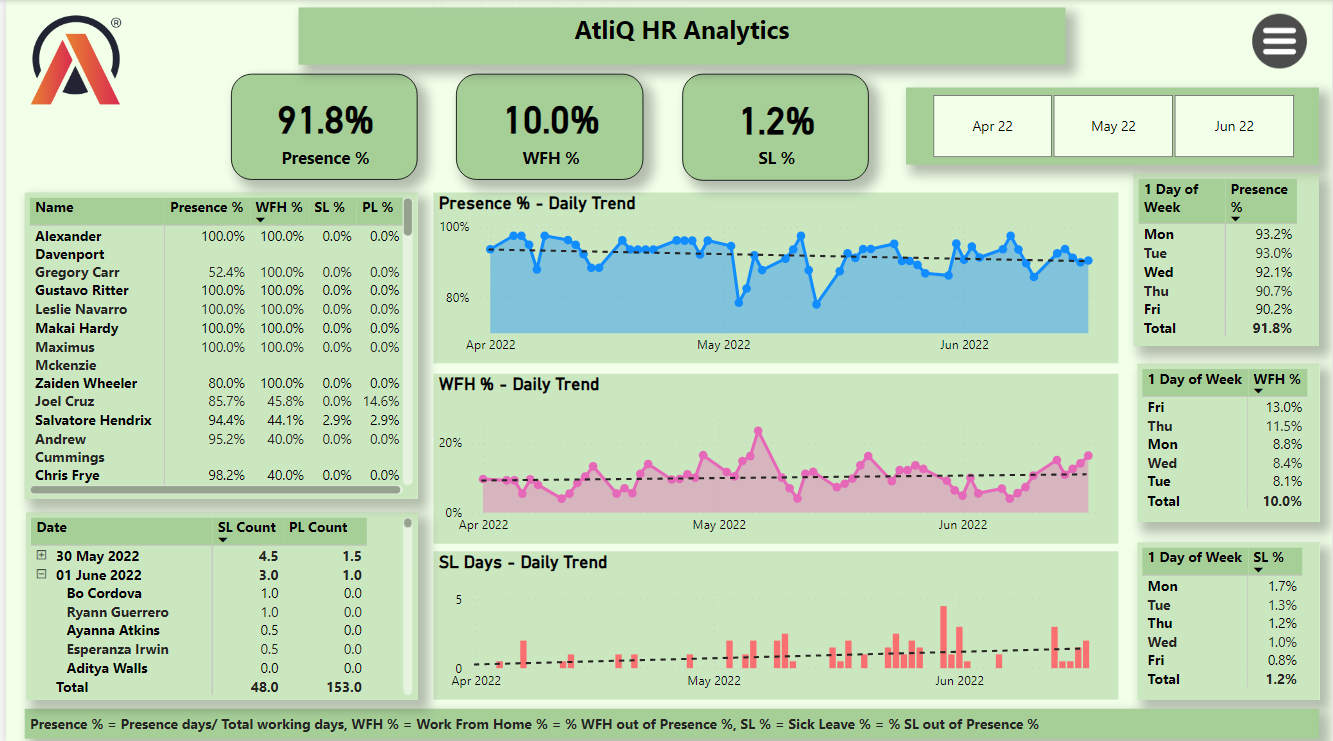

This screenshot's page, from the dashboard's own definition file:
{"tool":"powerbi","page":{"name":"Presence Insights","canvas":[1280,720],"ordinal":0},"visuals":[{"type":"areaChart","title":"Presence % - Daily Trend","fields":{"Y":["Measure Table.Presence %"],"Category":["Final Data.Date"]},"box":[412,186,661,165],"z":0},{"type":"card","fields":{"Values":["Measure Table.WFH %"]},"box":[434.4,71.1,181.1,102.2],"z":1000},{"type":"card","fields":{"Values":["Measure Table.Presence %"]},"box":[216.7,71.1,180,102.2],"z":3000},{"type":"slicer","fields":{"Values":["Final Data.Month"]},"box":[868.2,84.5,398.2,74.5],"z":5000},{"type":"card","fields":{"Values":["Measure Table.SL %"]},"box":[652.2,71.1,180,103.3],"z":7000},{"type":"pivotTable","fields":{"Rows":["Final Data.Name"],"Values":["Measure Table.Presence %","Measure Table.WFH %","Measure Table.SL %","Measure Table.PL %"]},"box":[18,186,379,296],"z":9000},{"type":"textbox","box":[282,7,740,55],"z":11000},{"type":"areaChart","title":"WFH % - Daily Trend","fields":{"Y":["Measure Table.WFH %"],"Category":["Final Data.Date"]},"box":[412,360,661,164],"z":12000},{"type":"lineClusteredColumnComboChart","title":"SL Days - Daily Trend","fields":{"Y":["Measure Table.SL Count"],"Category":["Final Data.Date"]},"box":[412,532,661,143],"z":13000},{"type":"pivotTable","fields":{"Rows":["Final Data.1 Day of Week"],"Values":["Measure Table.Presence %"]},"box":[1088,168,179,166],"z":14000},{"type":"pivotTable","fields":{"Rows":["Final Data.1 Day of Week"],"Values":["Measure Table.WFH %"]},"box":[1091,351,176,153],"z":15000},{"type":"pivotTable","fields":{"Rows":["Final Data.1 Day of Week"],"Values":["Measure Table.SL %"]},"box":[1091,523,176,152],"z":16000},{"type":"textbox","box":[18.6,684.3,1248.6,28.6],"z":17000},{"type":"image","box":[18.6,7.1,100,100],"z":18000},{"type":"pivotTable","fields":{"Rows":["Final Data.Date","Final Data.Name"],"Values":["Measure Table.SL Count","Measure Table.PL Count"]},"box":[19,494,378,181],"z":19000},{"type":"image","box":[1190,8.6,77.1,62.9],"z":20000}]}

Visuals, with their boxes in screenshot pixels (x1, y1, x2, y2), scaled from the page's 1280x720 canvas onto the 1333x741 screenshot:
"Presence % - Daily Trend" areaChart: 429 191 1117 361
card - Measure Table.WFH %: 452 73 641 178
card - Measure Table.Presence %: 226 73 413 178
slicer - Final Data.Month: 904 87 1319 164
card - Measure Table.SL %: 679 73 867 179
pivotTable - Final Data.Name x Measure Table.Presence %: 19 191 413 496
textbox: 294 7 1064 64
"WFH % - Daily Trend" areaChart: 429 370 1117 539
"SL Days - Daily Trend" lineClusteredColumnComboChart: 429 548 1117 695
pivotTable - Final Data.1 Day of Week x Measure Table.Presence %: 1133 173 1319 344
pivotTable - Final Data.1 Day of Week x Measure Table.WFH %: 1136 361 1319 519
pivotTable - Final Data.1 Day of Week x Measure Table.SL %: 1136 538 1319 695
textbox: 19 704 1320 734
image: 19 7 124 110
pivotTable - Final Data.Date x Final Data.Name: 20 508 413 695
image: 1239 9 1320 74
